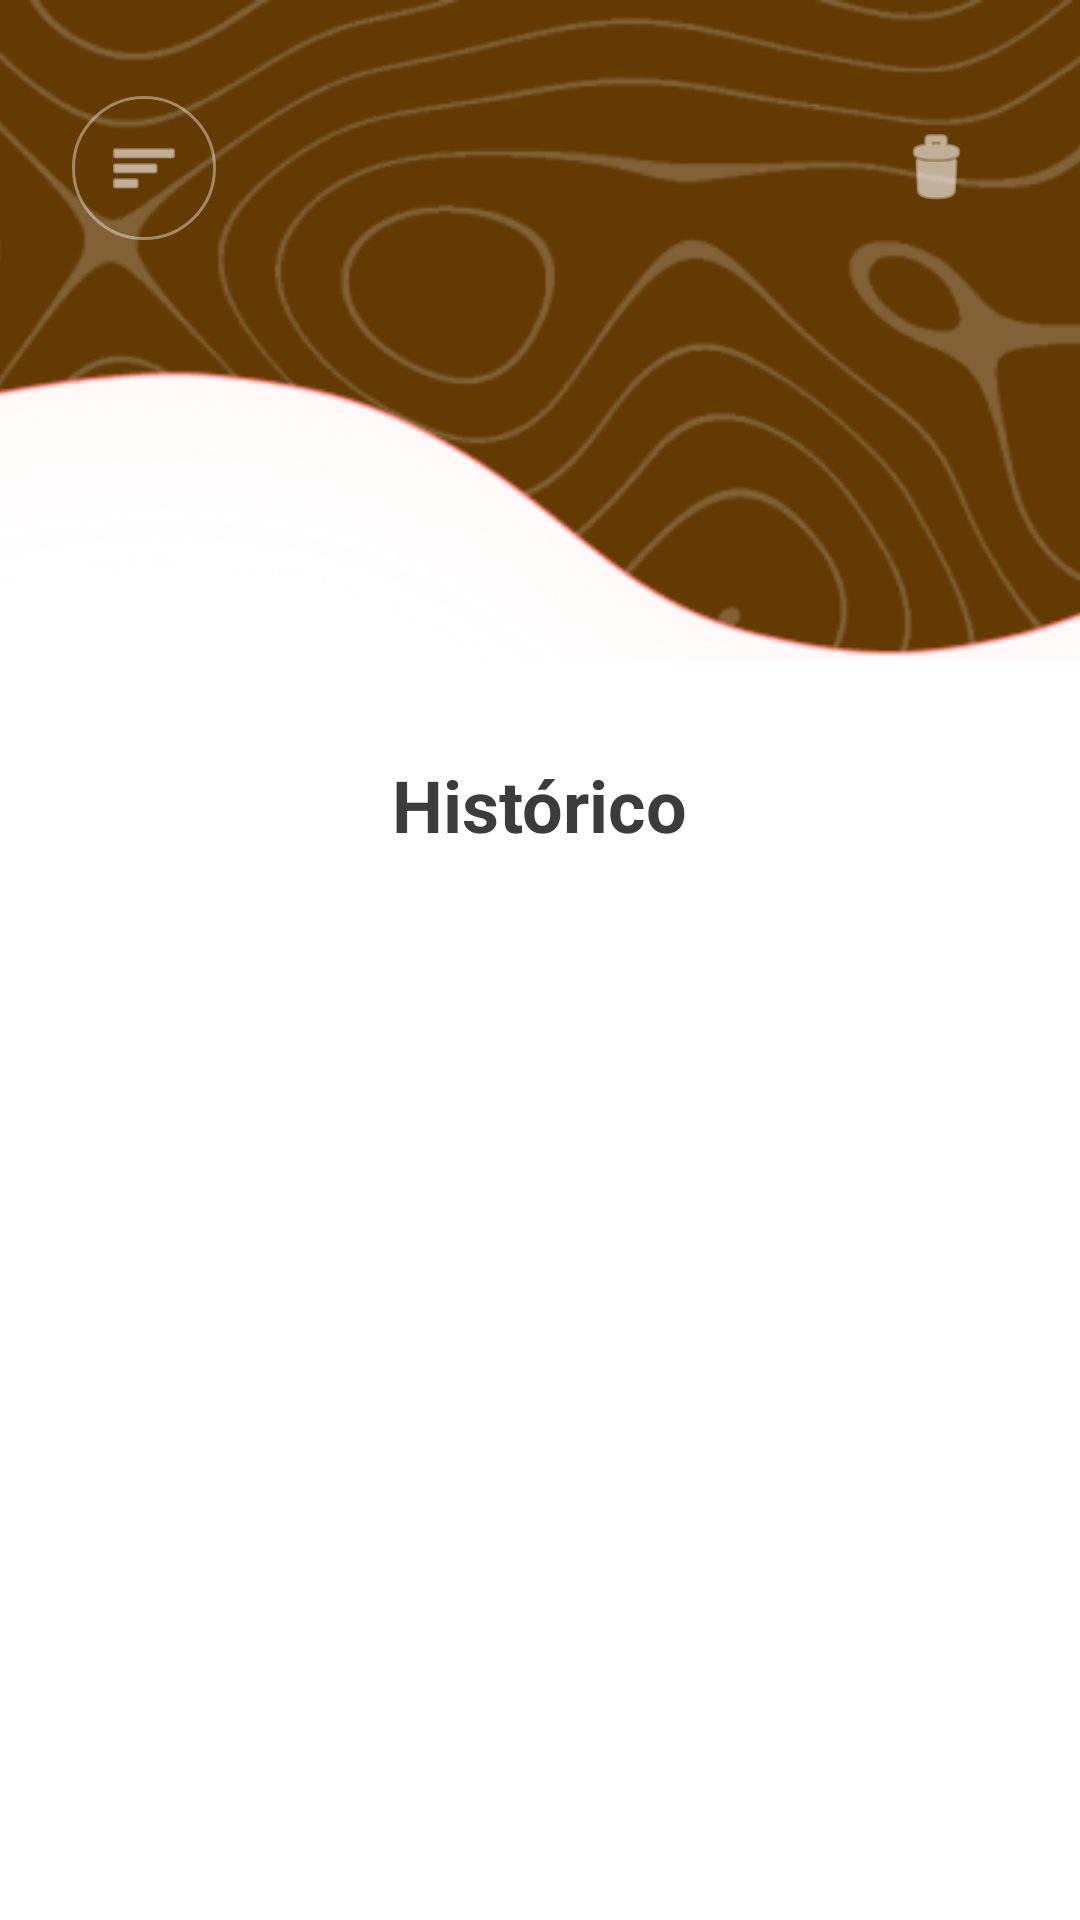

Icons on this 1080×1920 Android screen, each with its box as [x1,y1,x2,y2]:
sort by size: [72,96,216,240]
